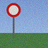sign: (6, 3, 21, 38)
